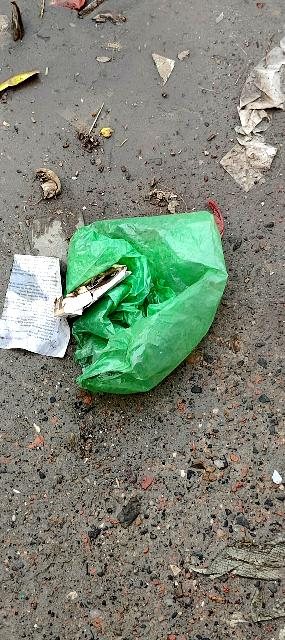polythene: (56, 209, 240, 391)
